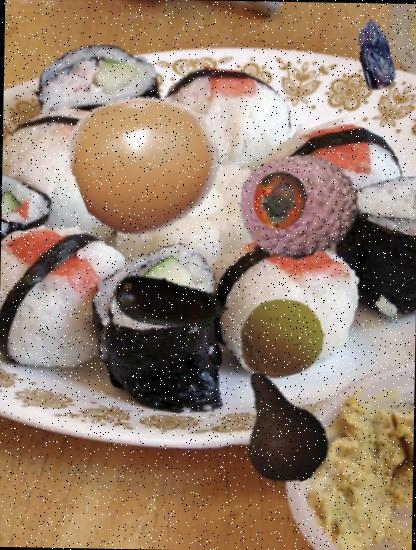Dates: (340, 19, 414, 92)
Eggplant: (110, 242, 233, 364)
Kaki: (250, 170, 311, 231)
Lychee: (237, 144, 360, 266)
Peach: (236, 292, 326, 382)
Pear: (218, 364, 340, 487)
Tomato: (72, 86, 223, 236)
